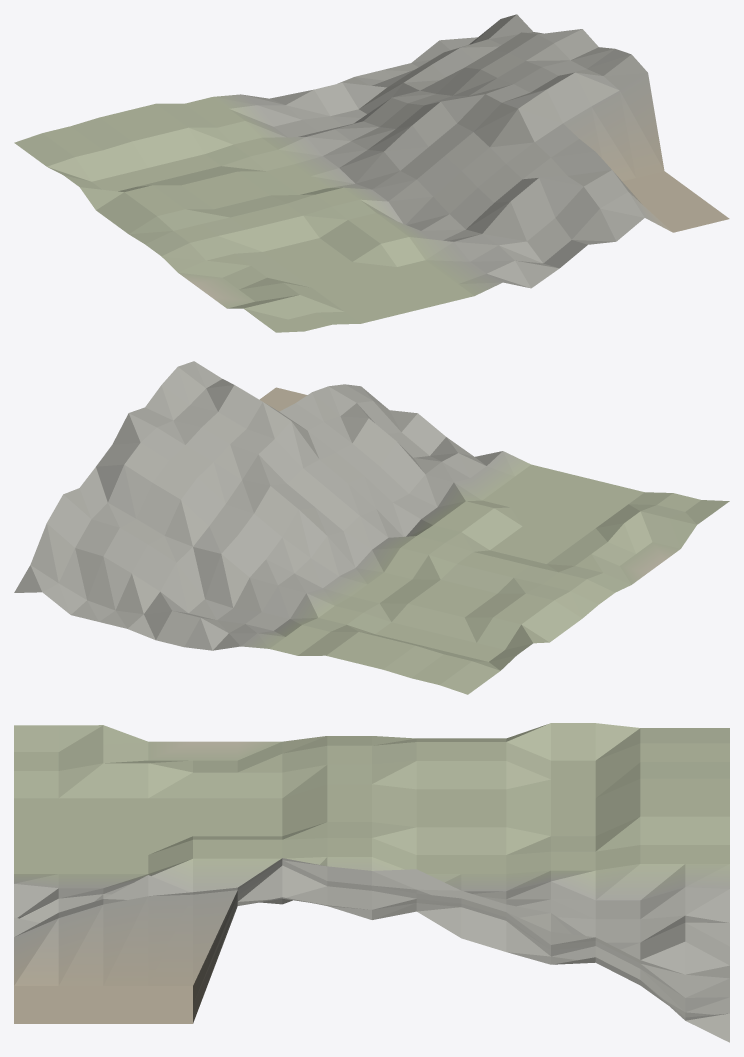
3 renders of one model, top to bottom at view 1: azimuth 30°, elevation 25°; view 2: azimuth 150°, elevation 25°; view 3: azimuth 270°, elevation 25°, orthographic. The views are drawn at different scales.
Size of the model in its own units: 32 by 8.03 by 32.
